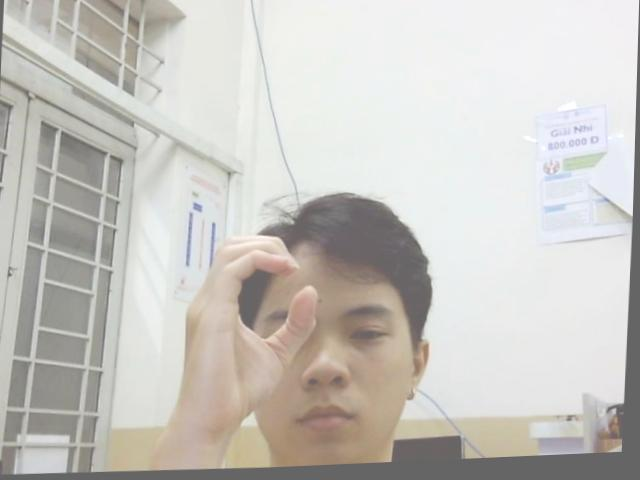C: (174, 233, 323, 432)
